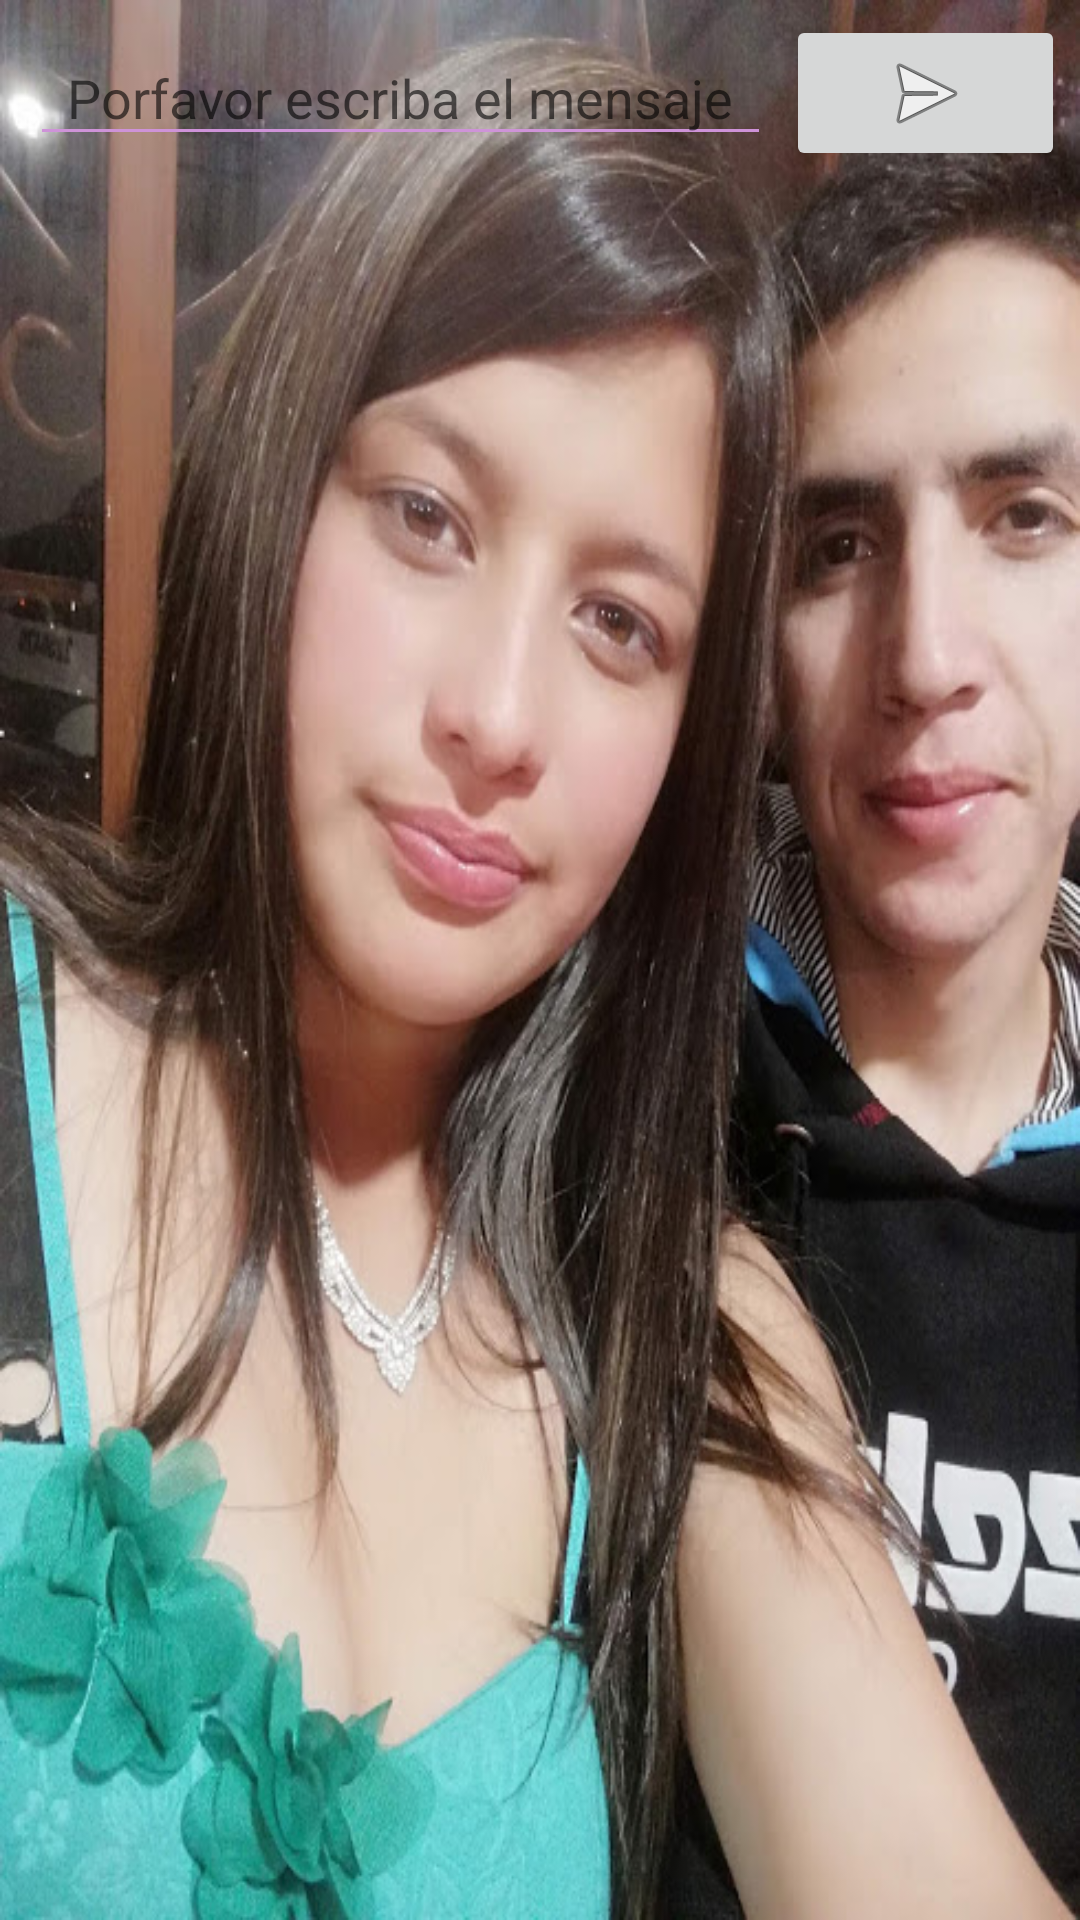

Icon click points for this 1080px x 1920px phone screenshot, format (x,y):
send: (925,93)
